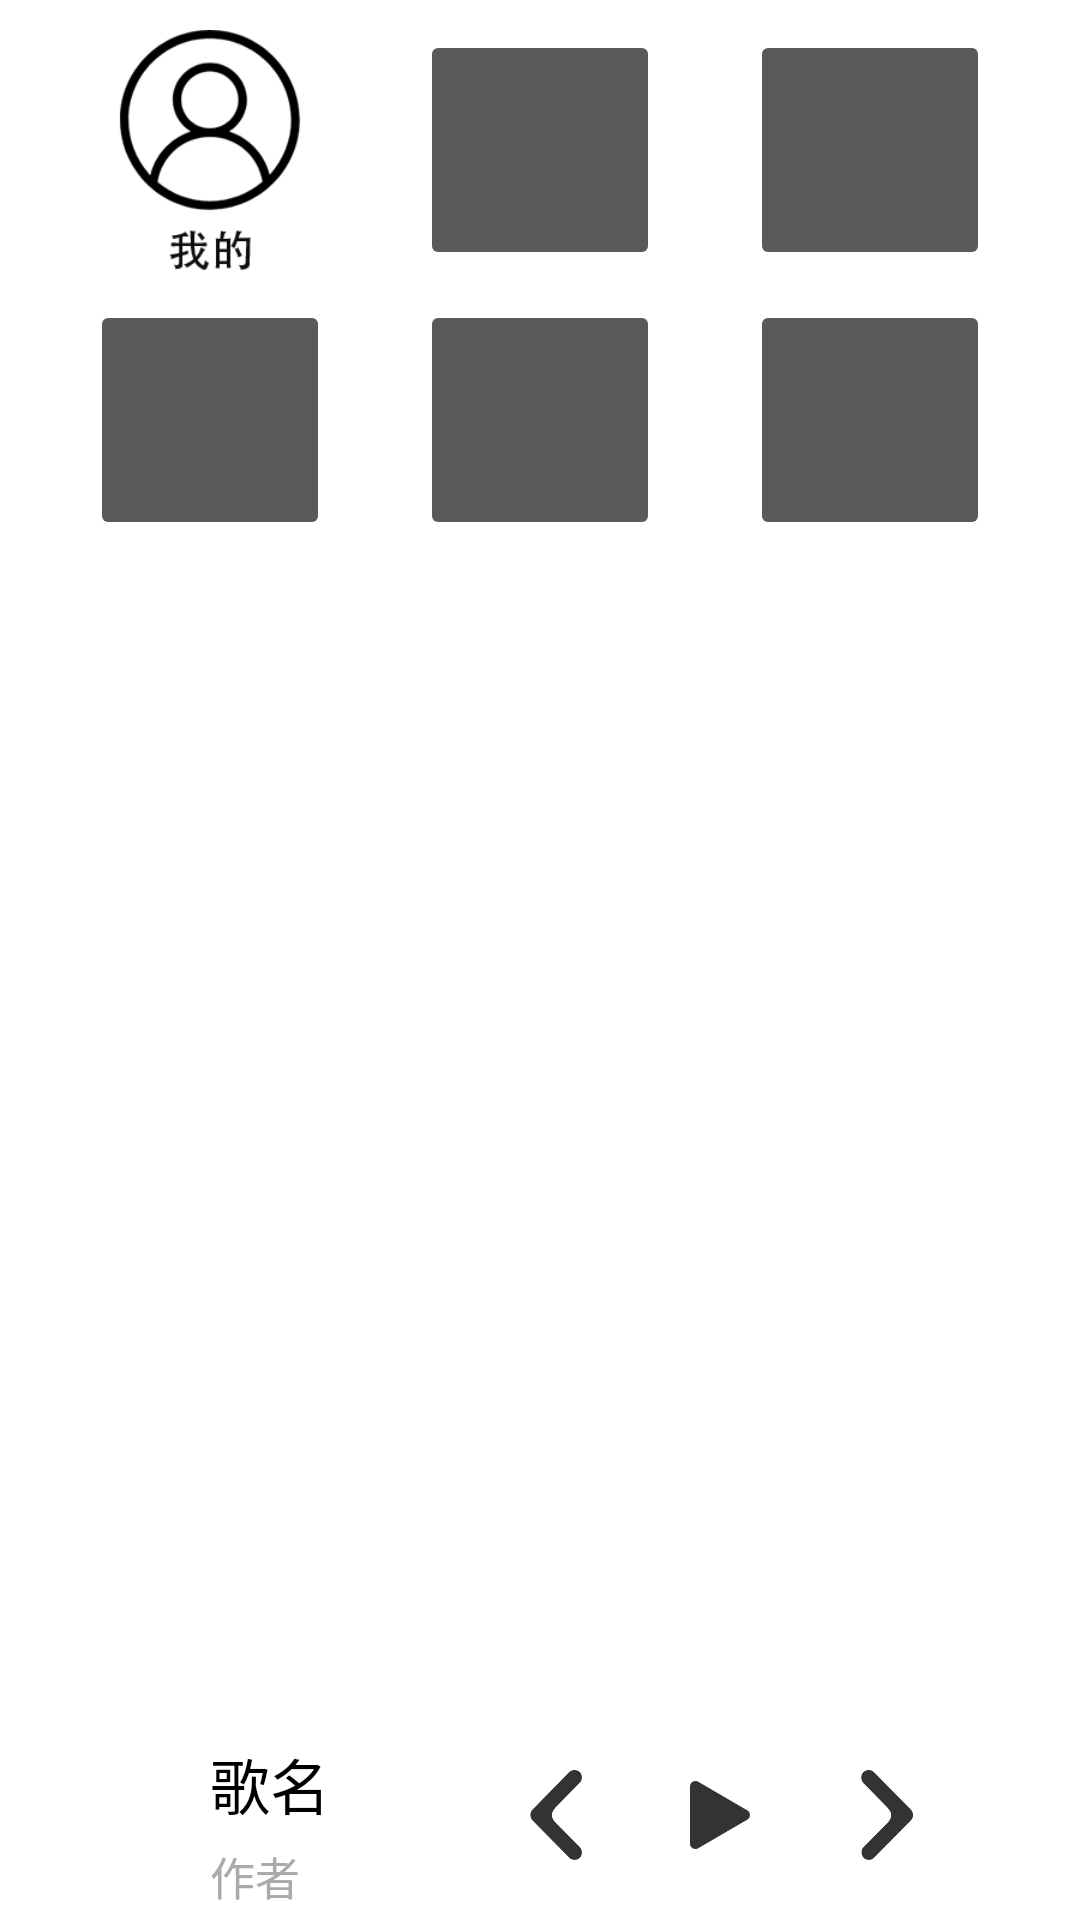

Icons on this 1080×1920 Android screen, each with its box as (x1, y1, x2, y2):
nextsong: (861, 1770, 913, 1860)
play: (690, 1781, 750, 1849)
upsong: (530, 1770, 582, 1860)
